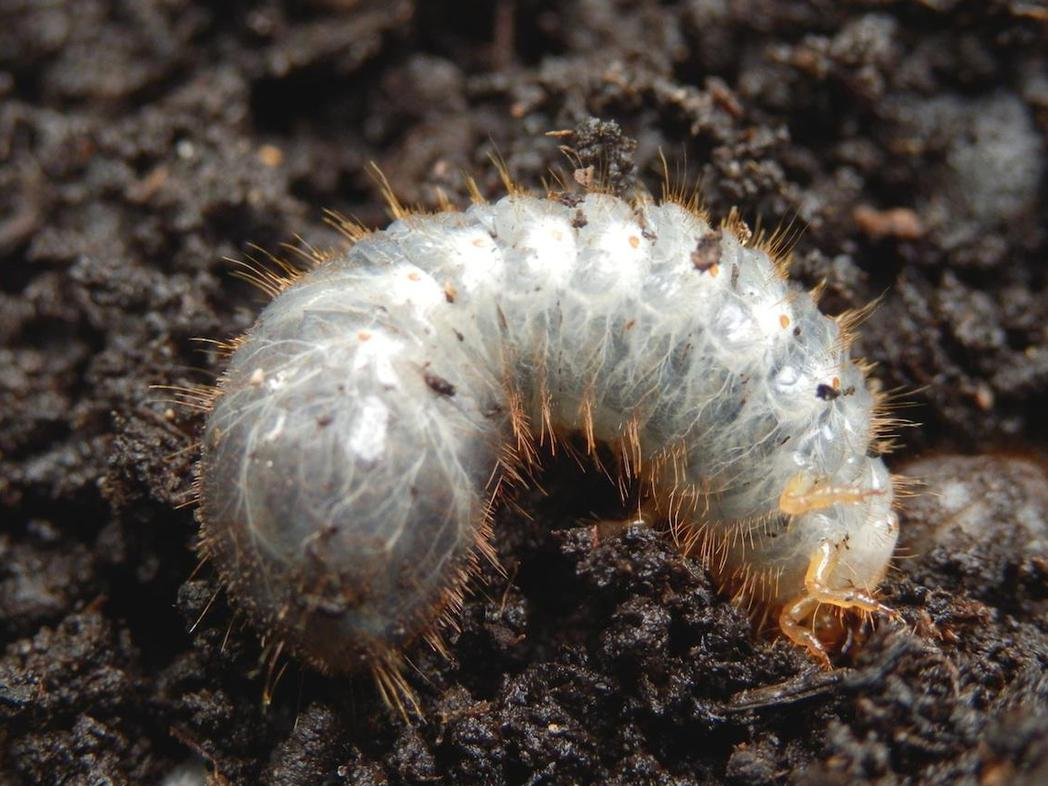grub: (175, 143, 899, 716)
